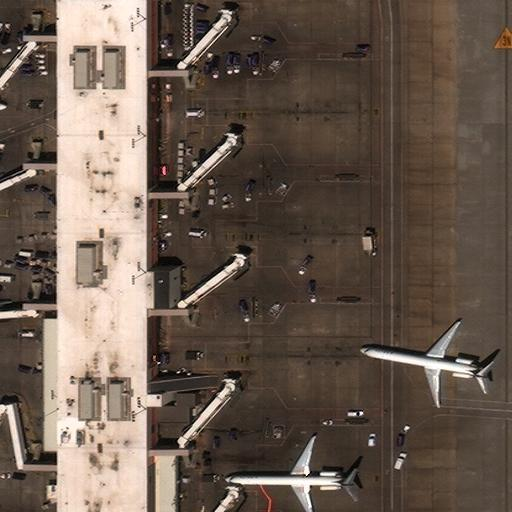Medium Civil Transport: (359, 320, 488, 408), (222, 436, 356, 512)
